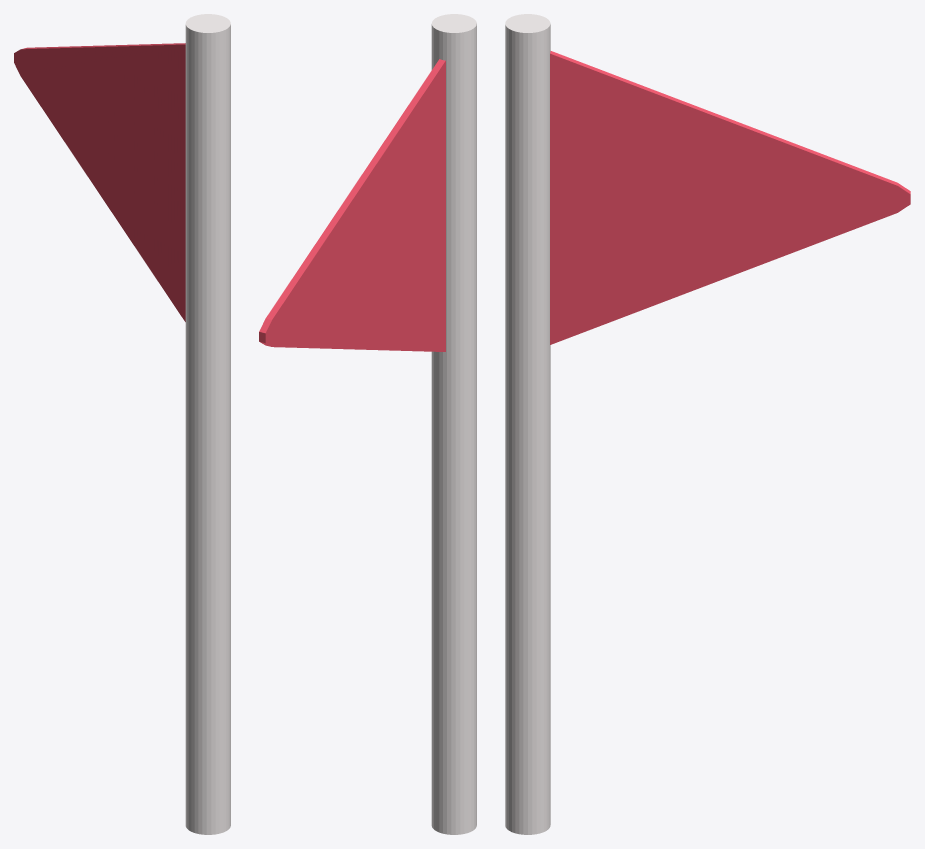
File: flag.fbx
The picture shows the model from 3 angles, left to right: view 1: azimuth 30°, elevation 25°; view 2: azimuth 150°, elevation 25°; view 3: azimuth 270°, elevation 25°; orthographic projection.
Parts seen in each view (by area): view 1: Cylinder; view 2: Cylinder; view 3: Cylinder.
Boxes of the visible parts, box(x1,y1,x2,y2) form: Cylinder: box(14, 14, 230, 834); Cylinder: box(259, 14, 476, 834); Cylinder: box(505, 14, 910, 834).
Bounding box in the file's own units: 13.79 × 270 × 124.
